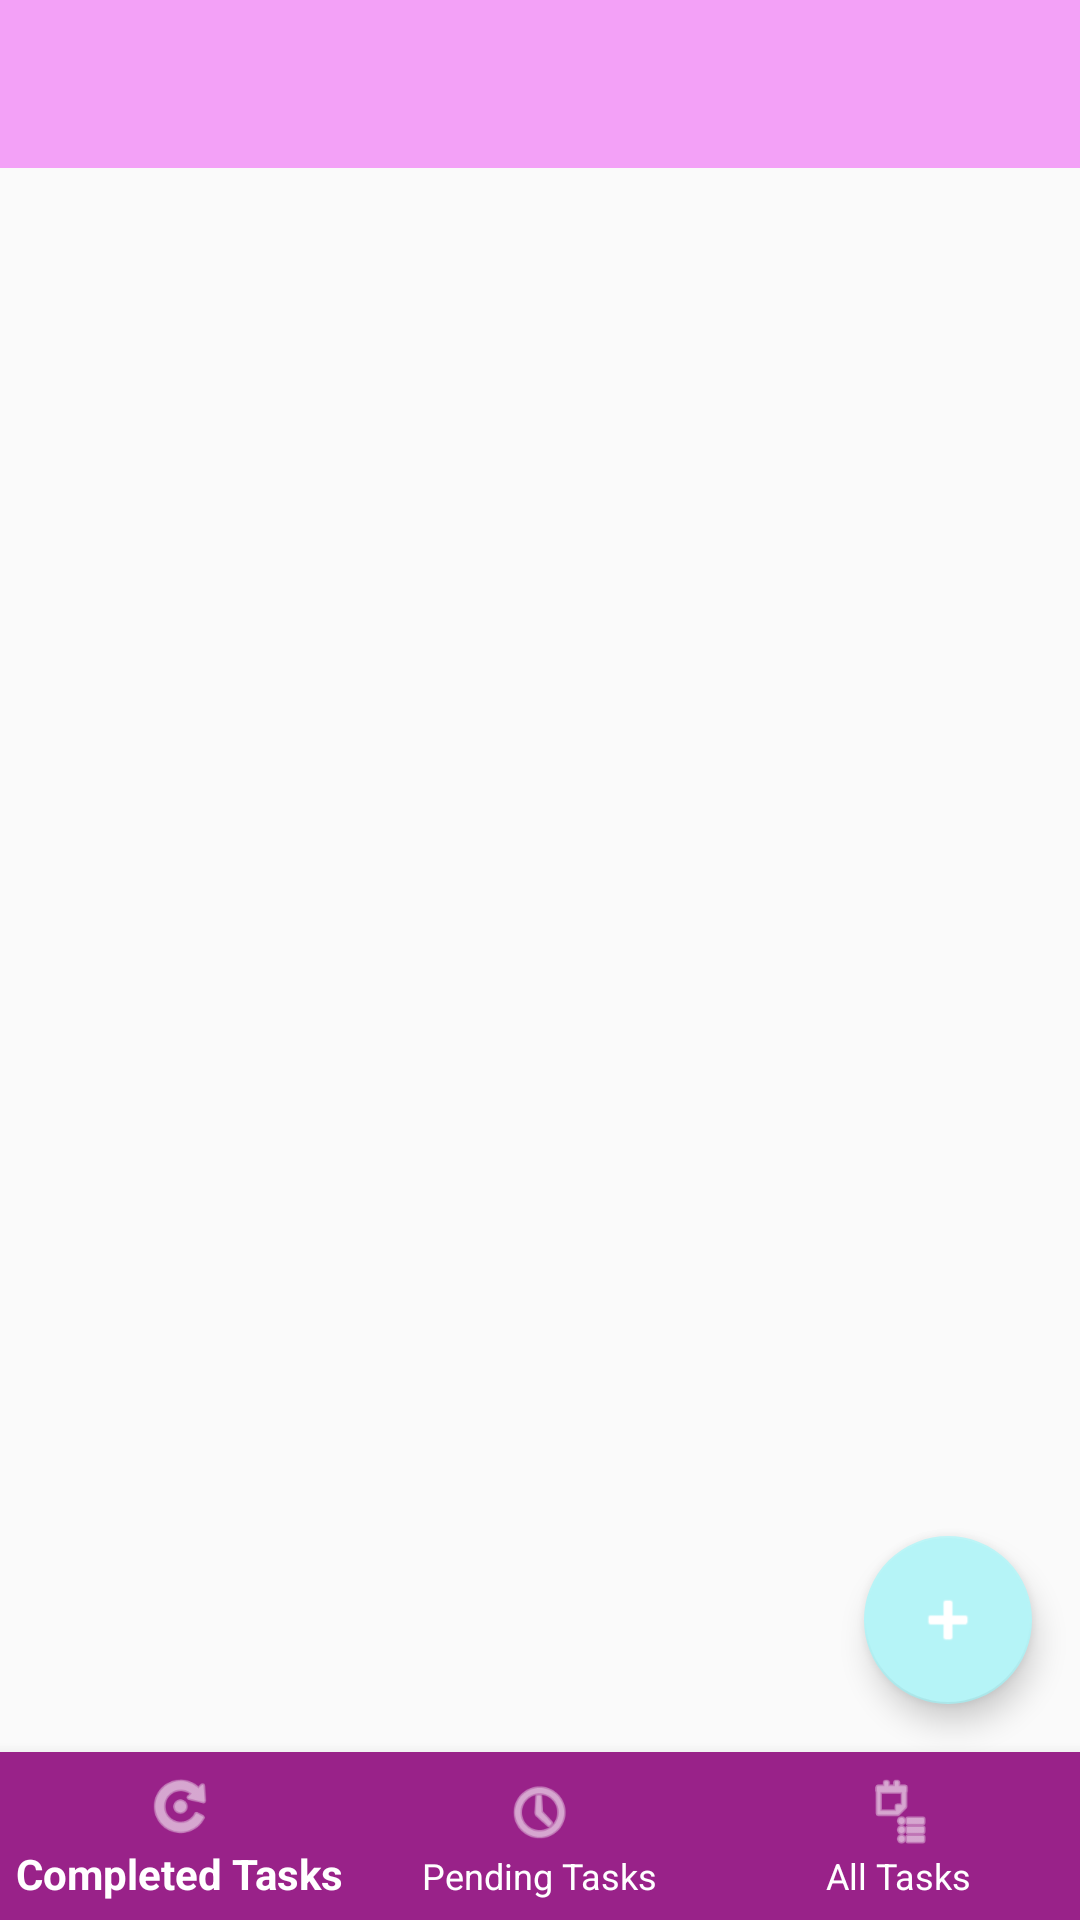

Screen size 1080*1920. Icon name, then its center in pixels as (x=x, y=y):
add: (x=948, y=1620)
